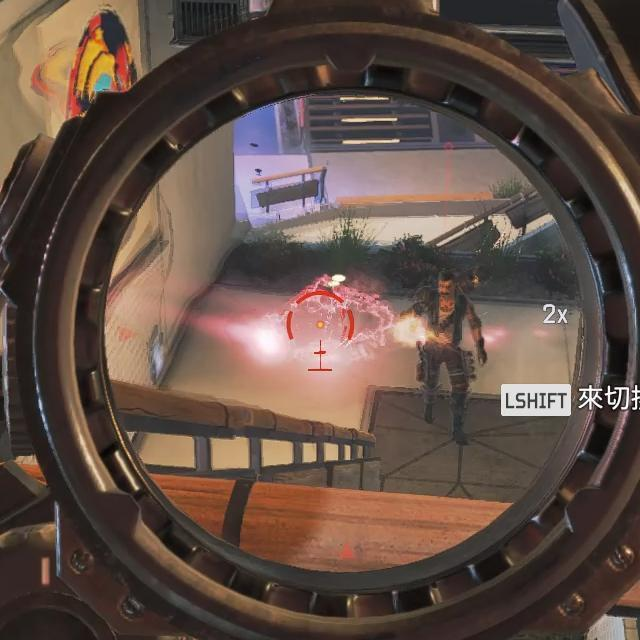avatar: (412, 267, 489, 447)
object: (390, 310, 429, 351)
